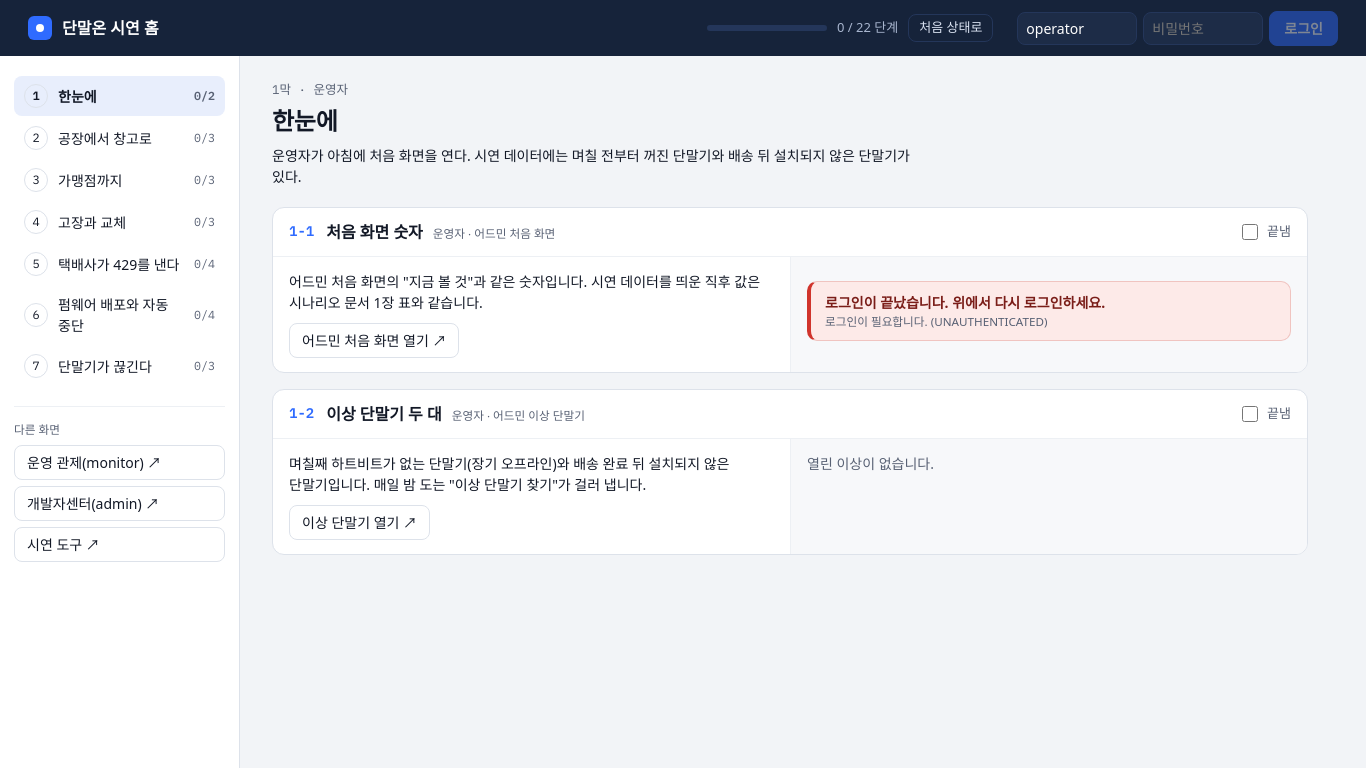
Scenario: 시연 홈 틀 (보강 10, decisions/0092) › 로그인 전에 401로 비어 있던 결과 패널이 로그인하면 다시 읽힌다(리허설에서 찾음)
Check: the message shows "로그인", box [807,281,1291,341]
Type "pw" into the password field labelled "비밀번호" at (1203, 28), box [1143,12,1263,44]
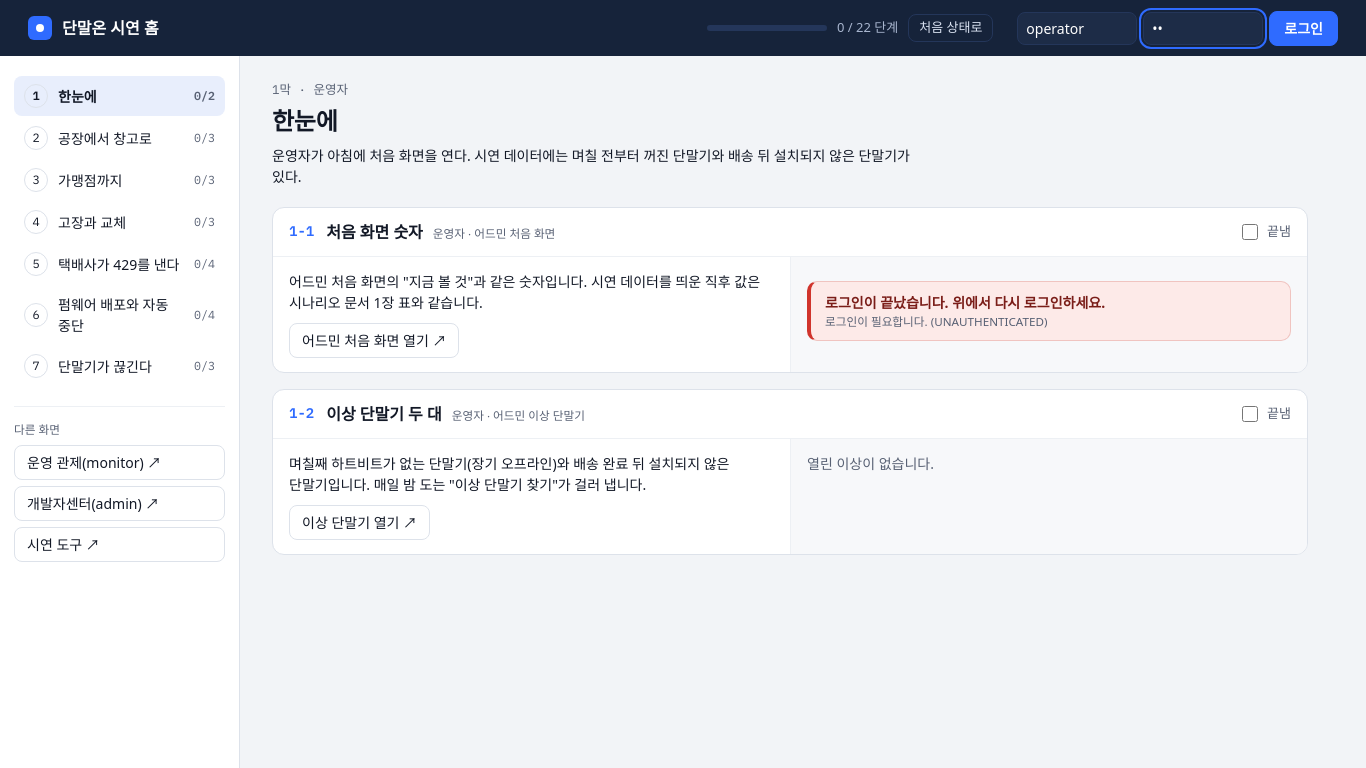
Click the button "로그인" at (1304, 28), box [1269,10,1338,46]
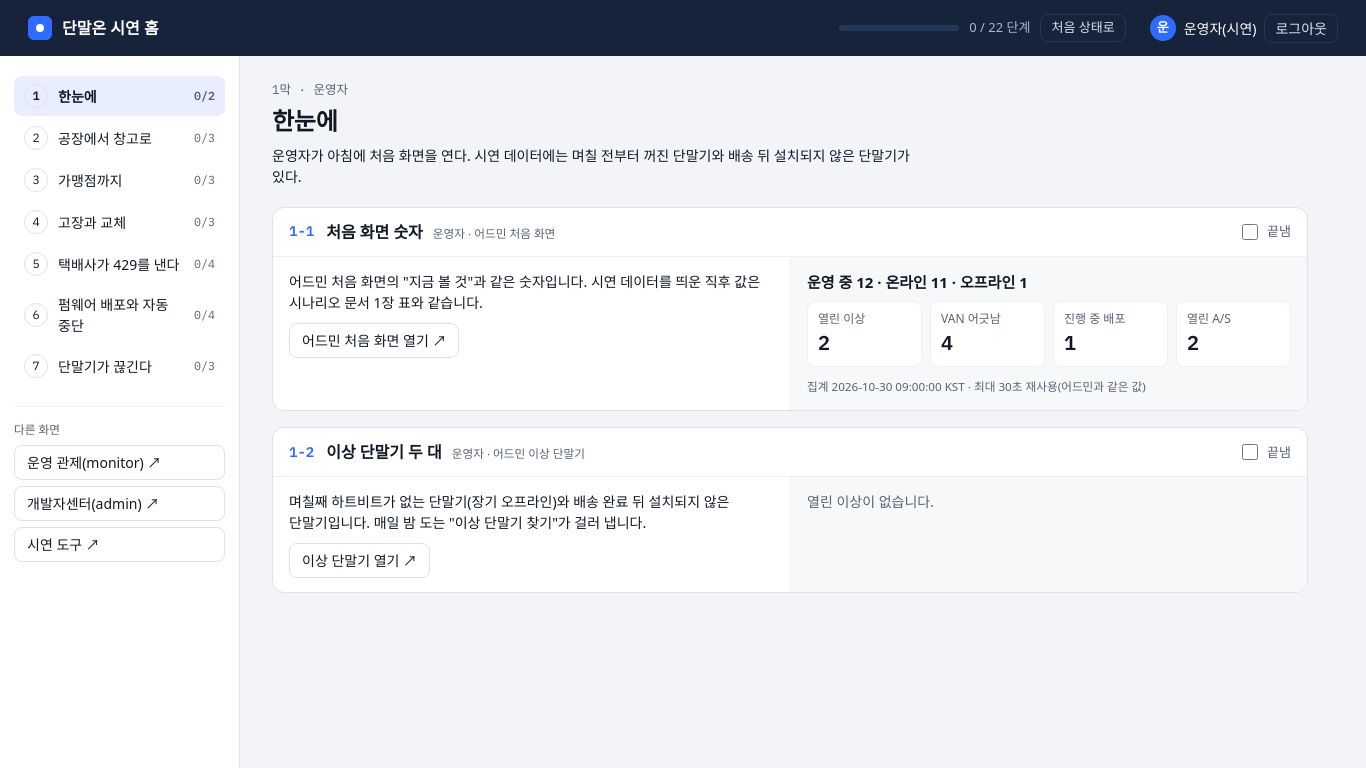
Check: the message "로그인이 끝났습니다. 위에서 다시 로그인하세요. 로그인이 필요합니다. (UNAUTHENTICATED)" is gone
Check: the text "운영 중 12 · 온라인 11 · 오프라인 1" is shown, box [807,272,1028,292]
